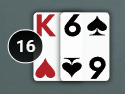6: (57, 9, 86, 42)
k: (33, 12, 60, 41)
